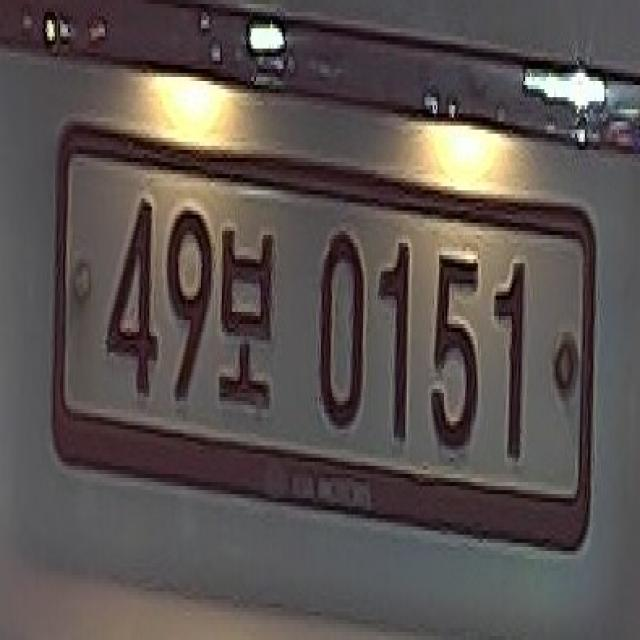0: (316, 211, 366, 447)
1: (490, 256, 530, 479), (377, 216, 413, 462)
4: (104, 183, 164, 406)
5: (431, 241, 482, 462)
9: (166, 201, 211, 412)
bo: (217, 204, 291, 414)
license_plate: (49, 116, 606, 567)
